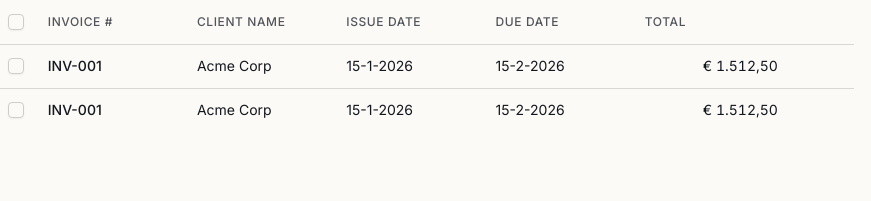
Test case: InvoiceTable › shows select-all checkbox and bulk actions toolbar when all selected
The image size is (871, 201).
Click the checkbox named "Select all": x=16, y=22 [8,14,24,30]
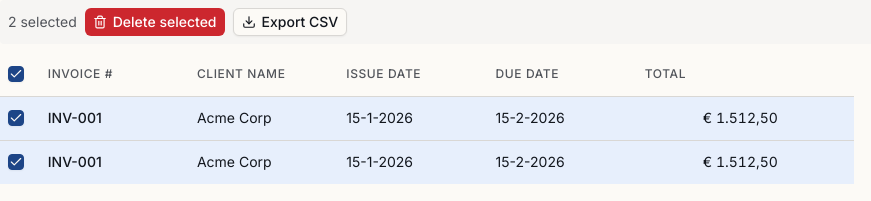
Expected: the button "Delete selected" is shown, [85,8,225,36]
Expected: the button "Export CSV" is shown, [232,8,347,36]
